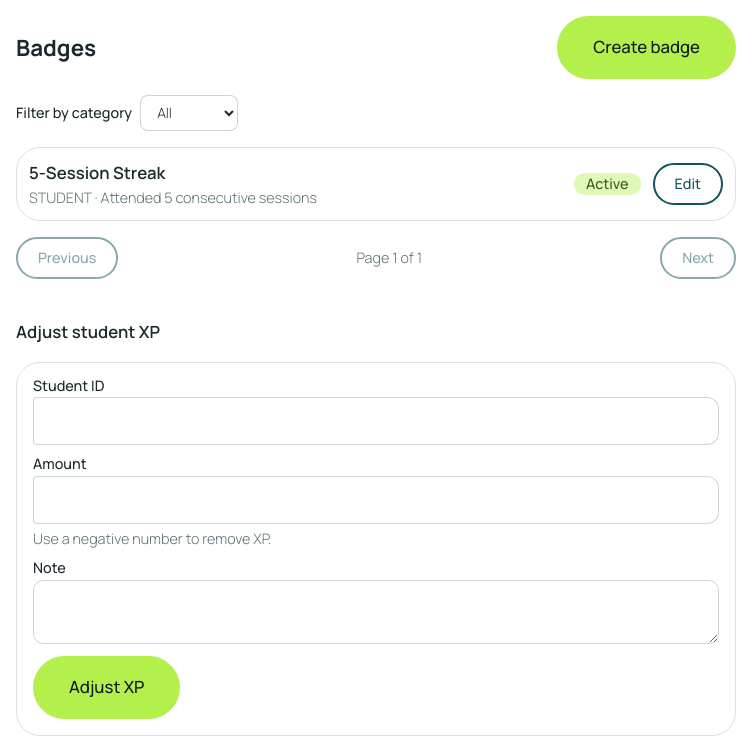
it: BadgeManagementPage › edit save is disabled until something changes
Click the button with aria-label "Edit 5-Session Streak" at (688, 184), box left=653, top=163, right=723, bottom=205
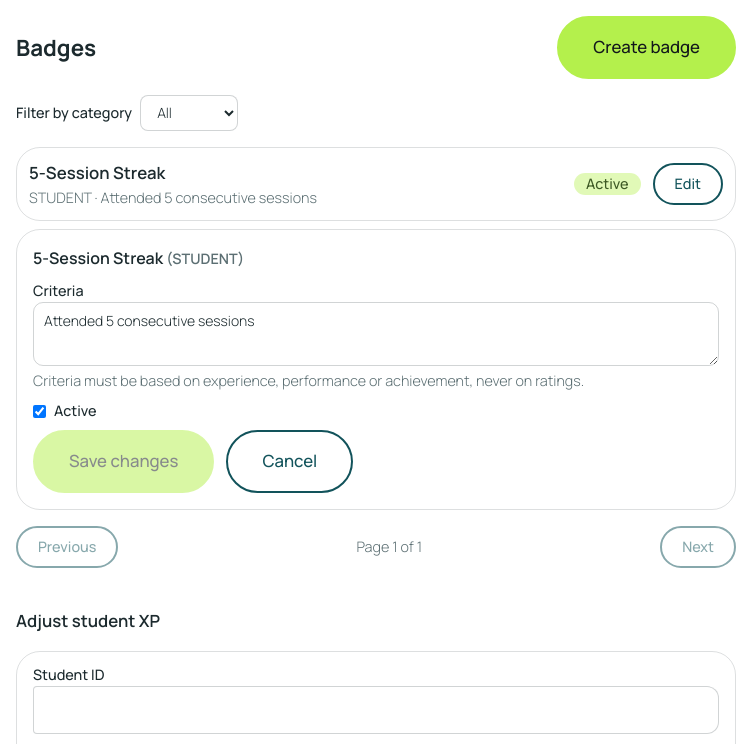
Now the button "Save changes" is disabled, box left=33, top=430, right=214, bottom=493
